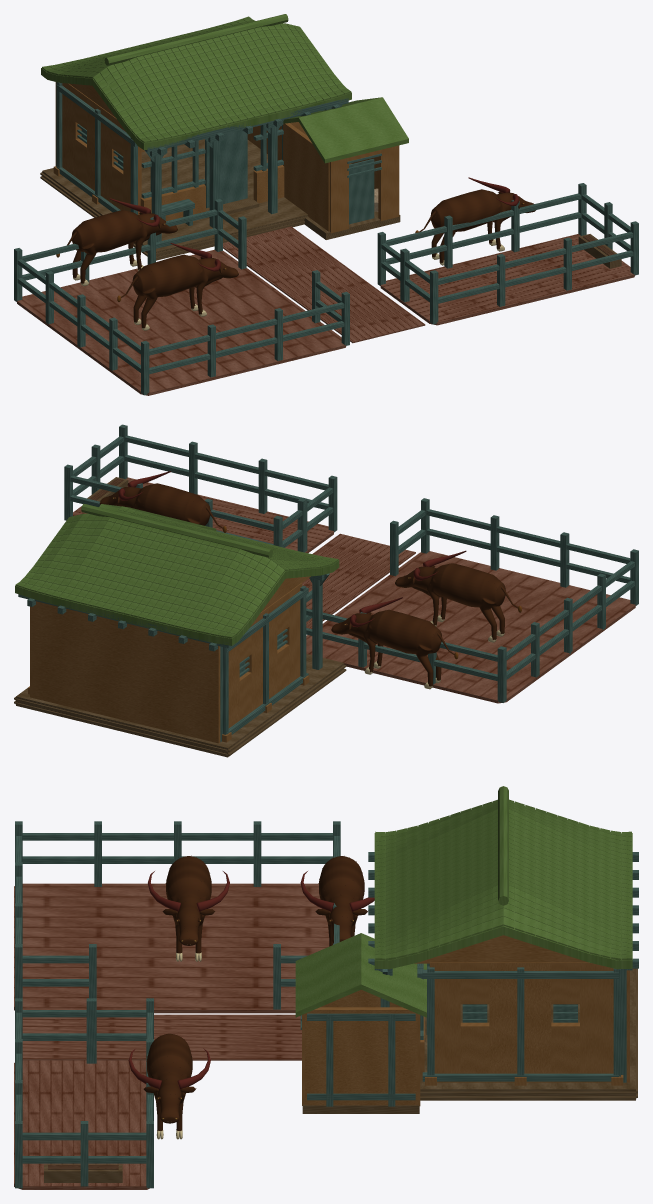
The picture shows the model from 3 angles, top to bottom: view 1: azimuth 30°, elevation 25°; view 2: azimuth 150°, elevation 25°; view 3: azimuth 270°, elevation 25°; orthographic projection. The views are drawn at different scales.
Parts seen in each view (by area): view 1: garrison_part_0001, garrison_part_0000; view 2: garrison_part_0001, garrison_part_0000; view 3: garrison_part_0001, garrison_part_0000.
Part boxes in pixels (x1,y1,x2,y2): garrison_part_0001: [14, 14, 638, 395]; garrison_part_0000: [17, 139, 634, 395]; garrison_part_0001: [15, 424, 638, 743]; garrison_part_0000: [14, 477, 635, 757]; garrison_part_0001: [15, 786, 638, 1188]; garrison_part_0000: [14, 883, 637, 1189].
Bounding box in the file's own units: 1500 × 457 × 1309.
Materials: 1 (1 with a texture image).
